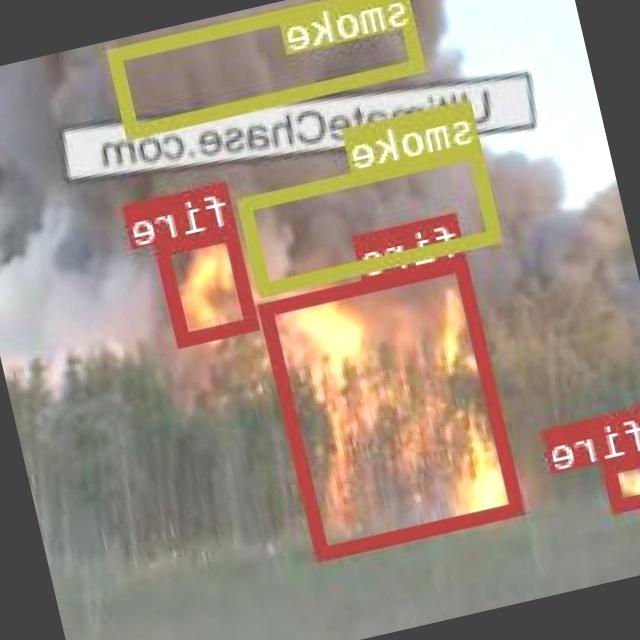fire: (259, 255, 526, 559), (158, 222, 260, 344), (604, 446, 640, 509)
smoke: (110, 0, 426, 135), (240, 140, 504, 294)
